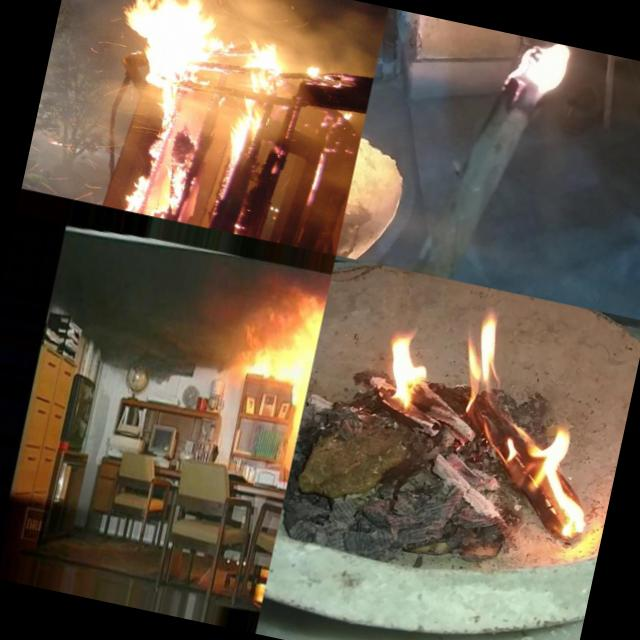fire: (340, 288, 620, 545), (109, 0, 309, 120), (123, 90, 268, 235), (224, 276, 328, 442), (484, 32, 584, 140), (290, 60, 362, 136), (300, 148, 330, 220), (248, 561, 270, 606)
smoke: (31, 26, 157, 162), (286, 0, 388, 74), (20, 142, 130, 210), (129, 0, 299, 15)
